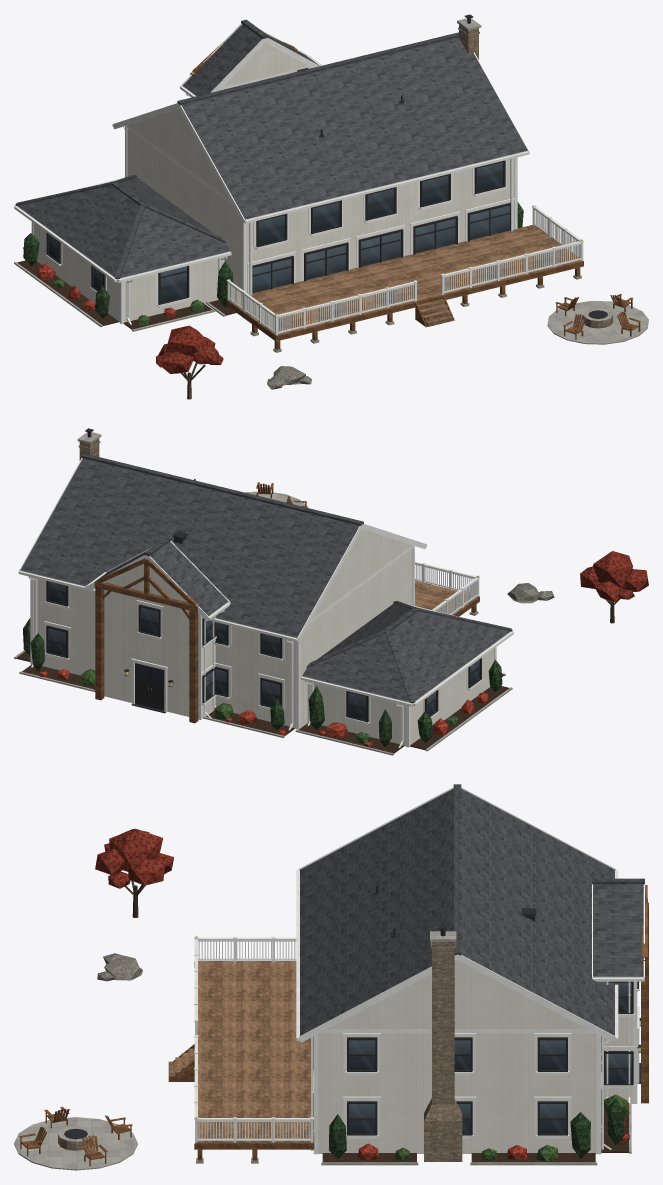
The model's file is se_clubhouse.fbx.
3 views of the same model, one above another, from view 1: azimuth 30°, elevation 25°; view 2: azimuth 150°, elevation 25°; view 3: azimuth 270°, elevation 25° (orthographic). The views are drawn at different scales.
Visible parts, largest first — view 1: se_clubhouse_LOD0; view 2: se_clubhouse_LOD0; view 3: se_clubhouse_LOD0.
Part boxes in pixels (x1=…): se_clubhouse_LOD0: x1=14, y1=14, x2=648, y2=399; se_clubhouse_LOD0: x1=14, y1=428, x2=648, y2=755; se_clubhouse_LOD0: x1=14, y1=784, x2=648, y2=1170.
Size of what is drawn, in the model's own units: 27 by 10.67 by 26.63.
Materials: 2 (2 with a texture image).
